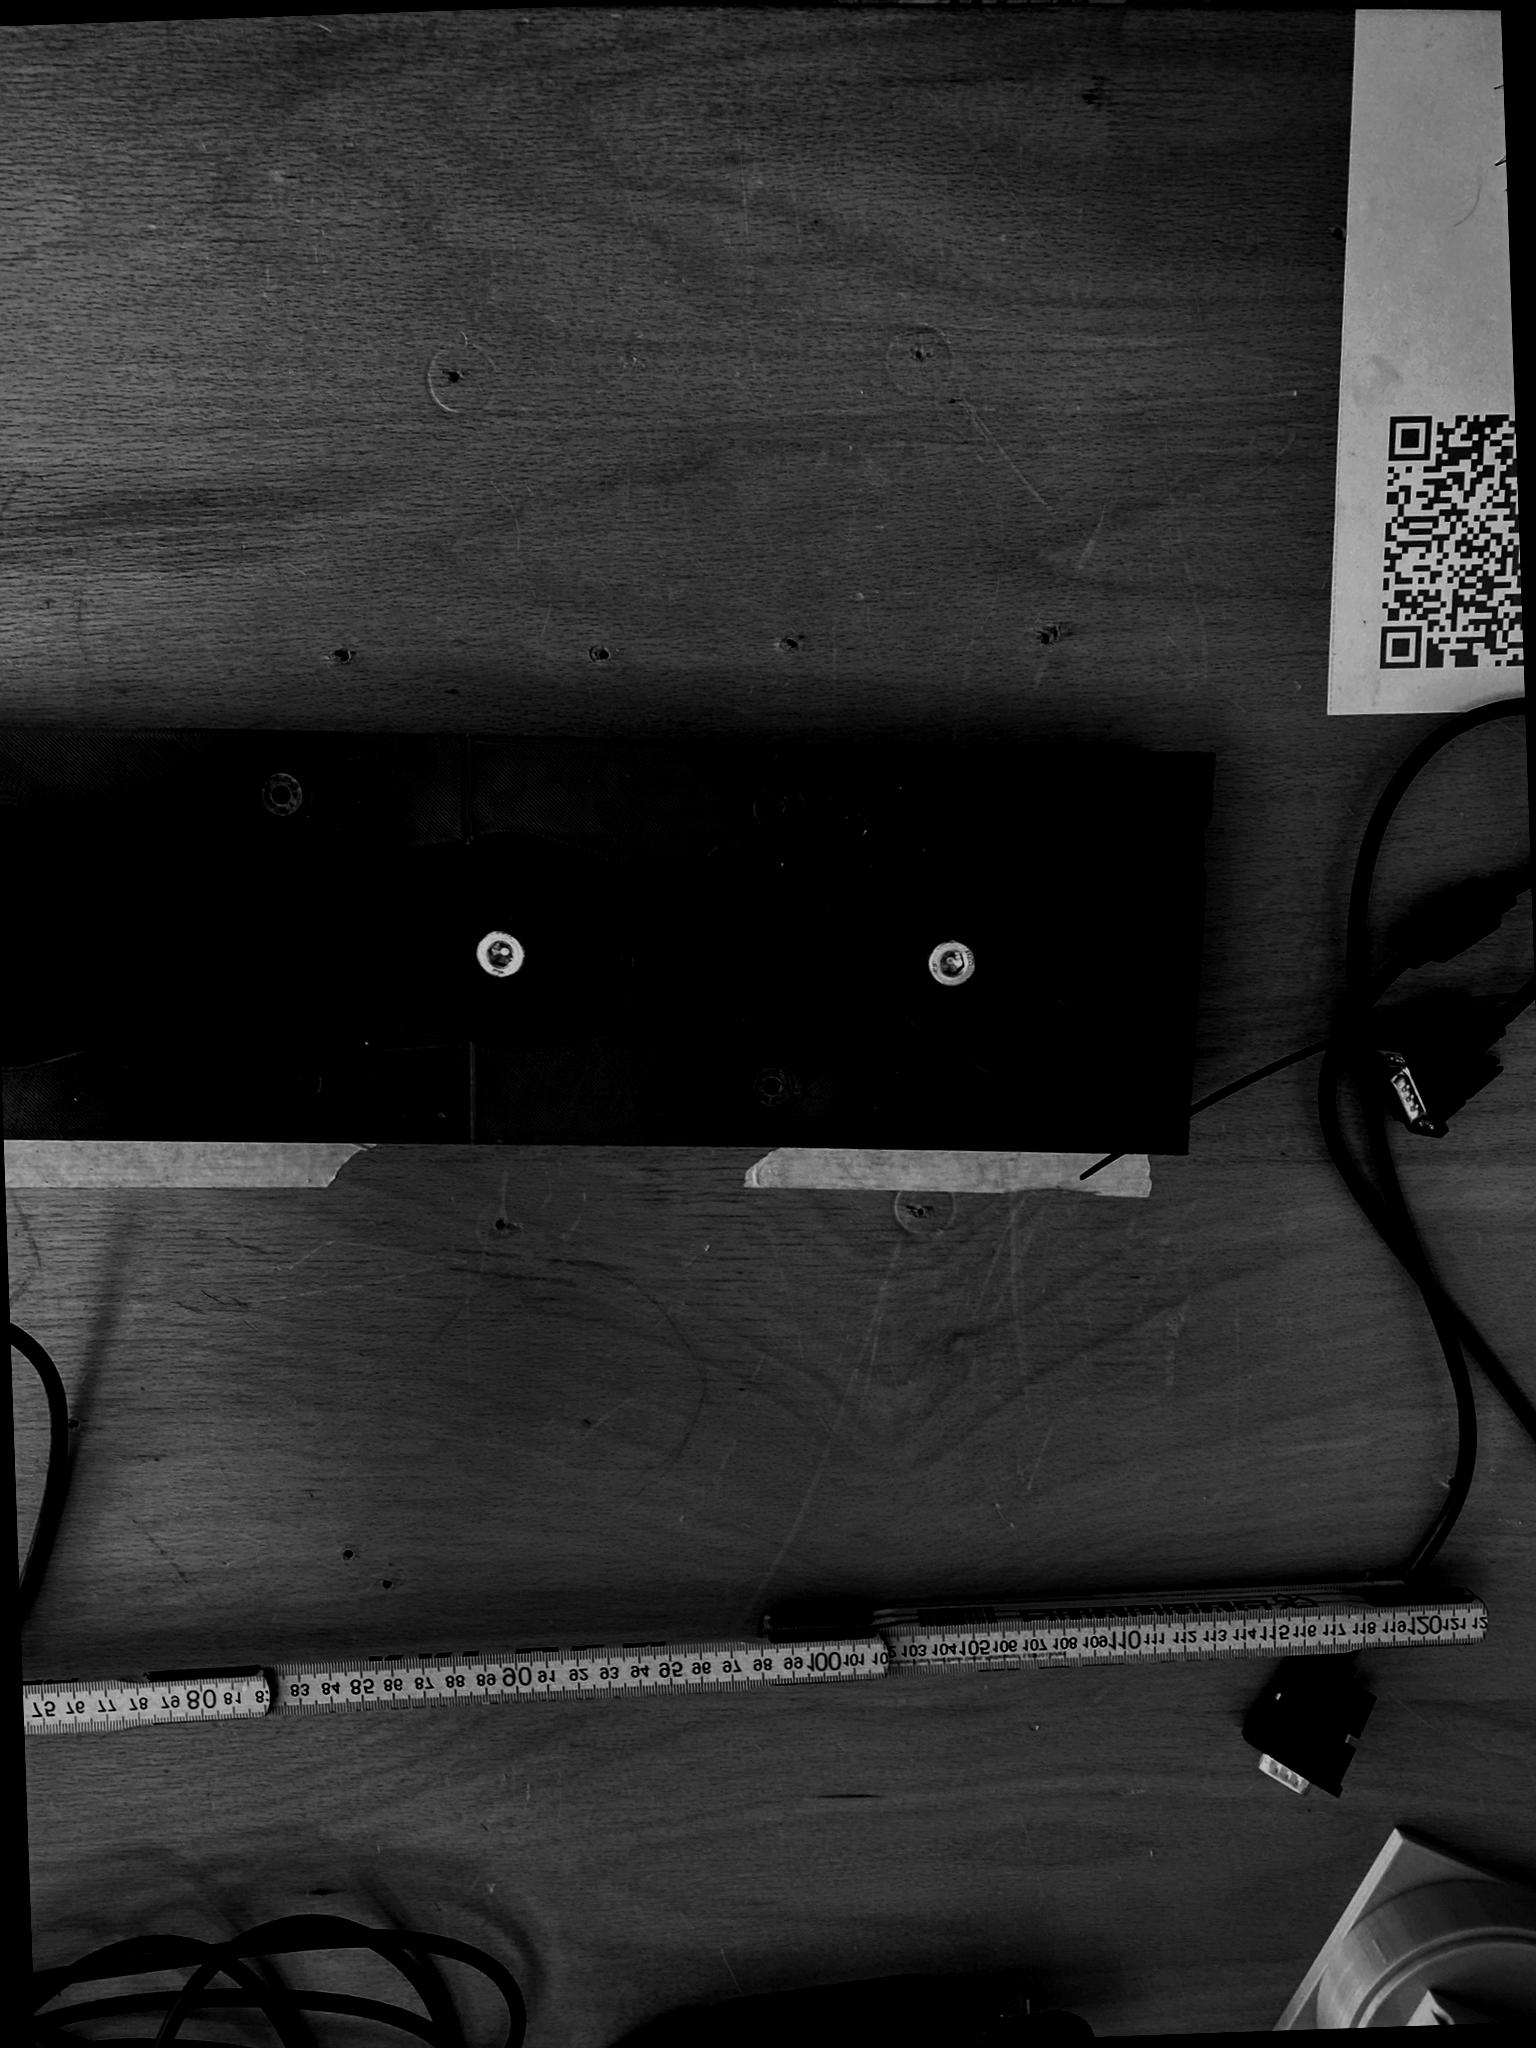allen: (747, 784, 802, 834), (476, 929, 526, 980), (257, 772, 305, 819), (931, 937, 973, 989), (750, 1063, 792, 1113), (268, 1061, 316, 1103)
